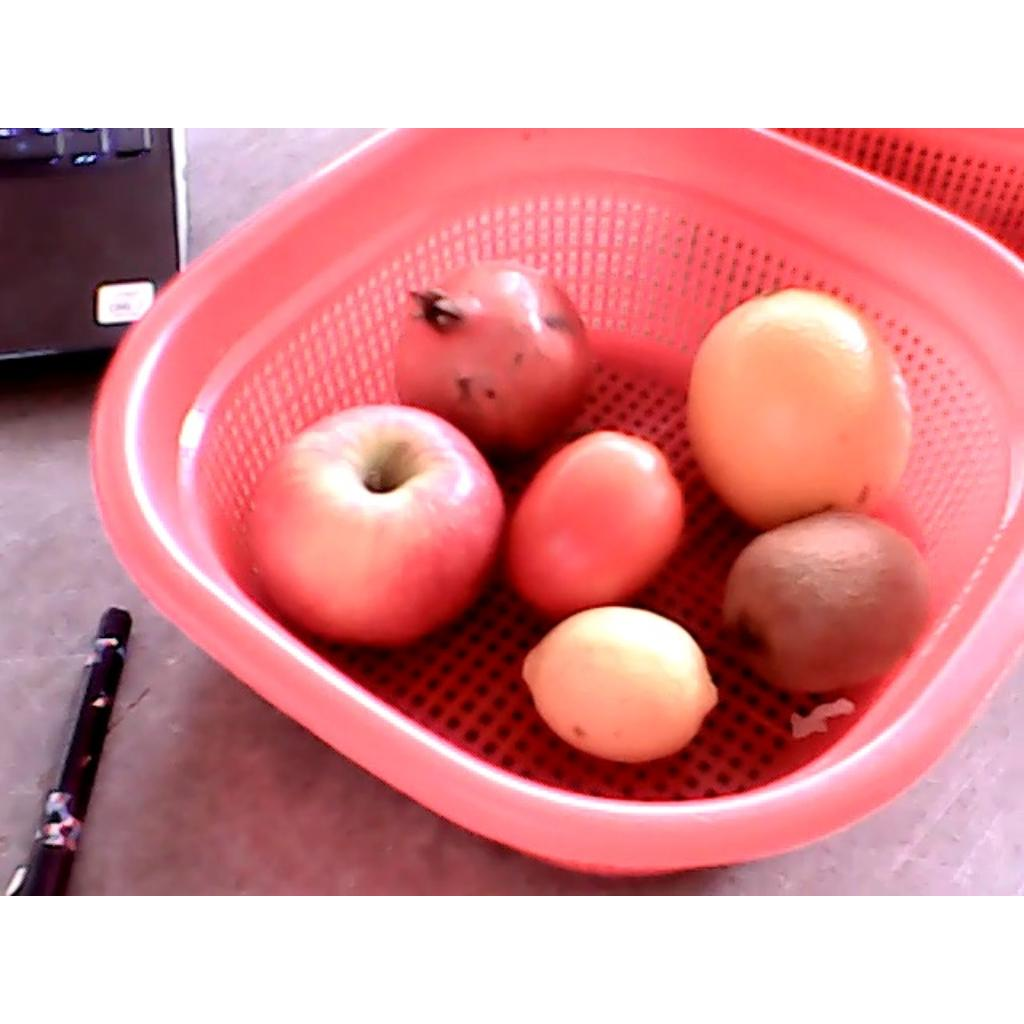apple: (248, 406, 506, 650)
kiwi: (712, 512, 928, 695)
lemon: (523, 607, 719, 761)
orange: (687, 286, 911, 530)
pomegranate: (393, 257, 592, 450)
tomato: (505, 430, 688, 612)
